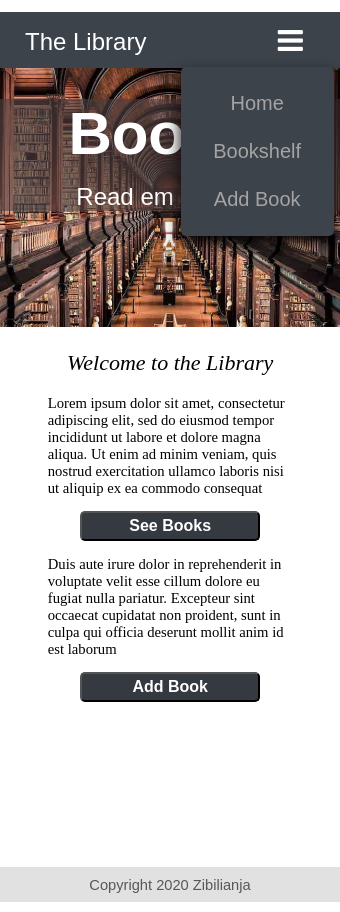
Test: 11_mobile_dropdown_open_close › click_drop_down_close
Click the button with class "click__dropdown". click: (292, 34)
box: [277,12,307,56]
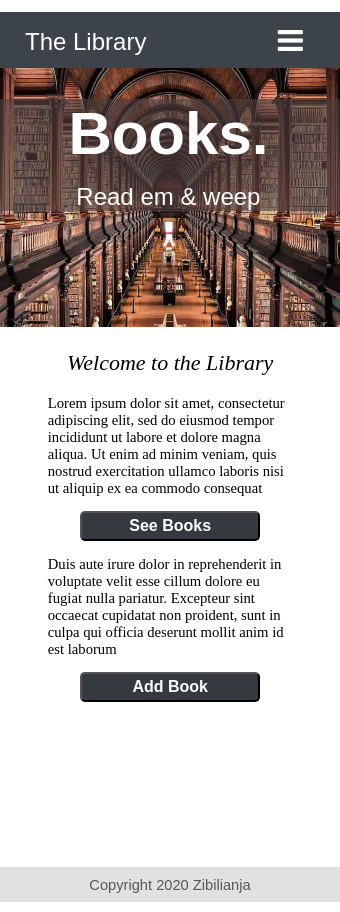
expect the element with class "dropdown__content" is gone: met
